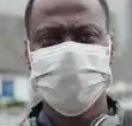with_facemask: (37, 48, 105, 100)
